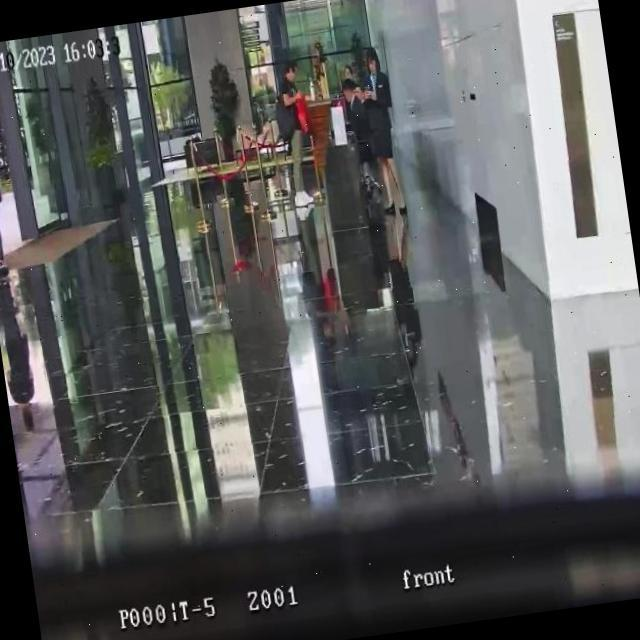person: (354, 43, 408, 216), (270, 58, 320, 208), (342, 77, 372, 157), (0, 120, 11, 272)
